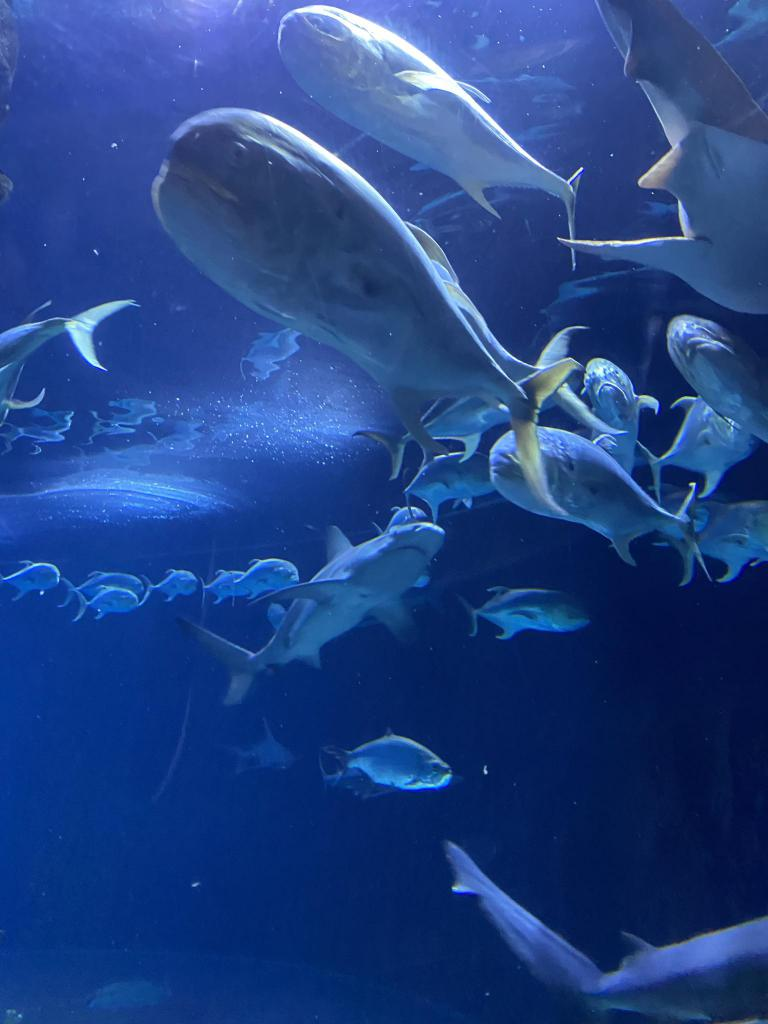fish: (155, 108, 579, 510), (278, 6, 584, 268), (490, 424, 700, 588), (0, 298, 136, 428), (357, 389, 529, 479), (640, 392, 768, 494), (667, 312, 767, 440), (653, 496, 767, 584), (580, 358, 658, 472), (321, 732, 453, 796), (459, 586, 585, 640), (402, 452, 496, 518), (56, 570, 148, 618), (0, 559, 59, 600), (236, 558, 298, 596), (198, 570, 248, 602), (150, 572, 196, 600)
shark: (553, 0, 767, 317), (446, 841, 768, 1023), (174, 520, 442, 708), (232, 716, 294, 774)
